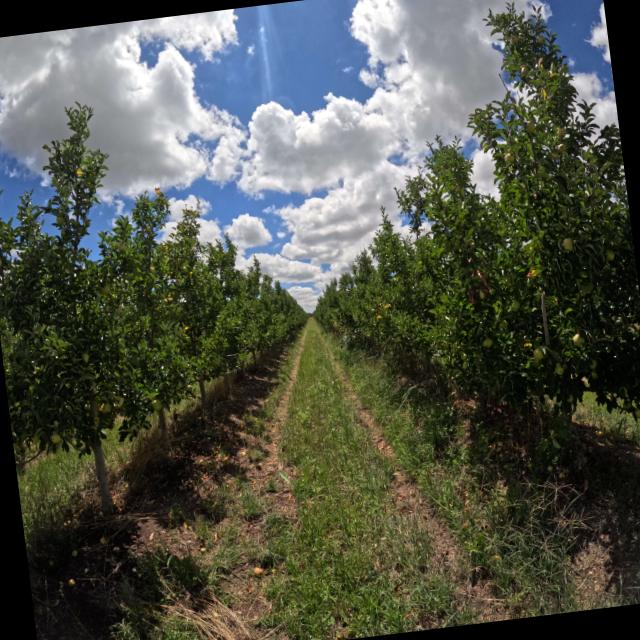-FireBlight-: (468, 268, 491, 307), (482, 260, 488, 267), (469, 269, 474, 277), (468, 257, 474, 262)
